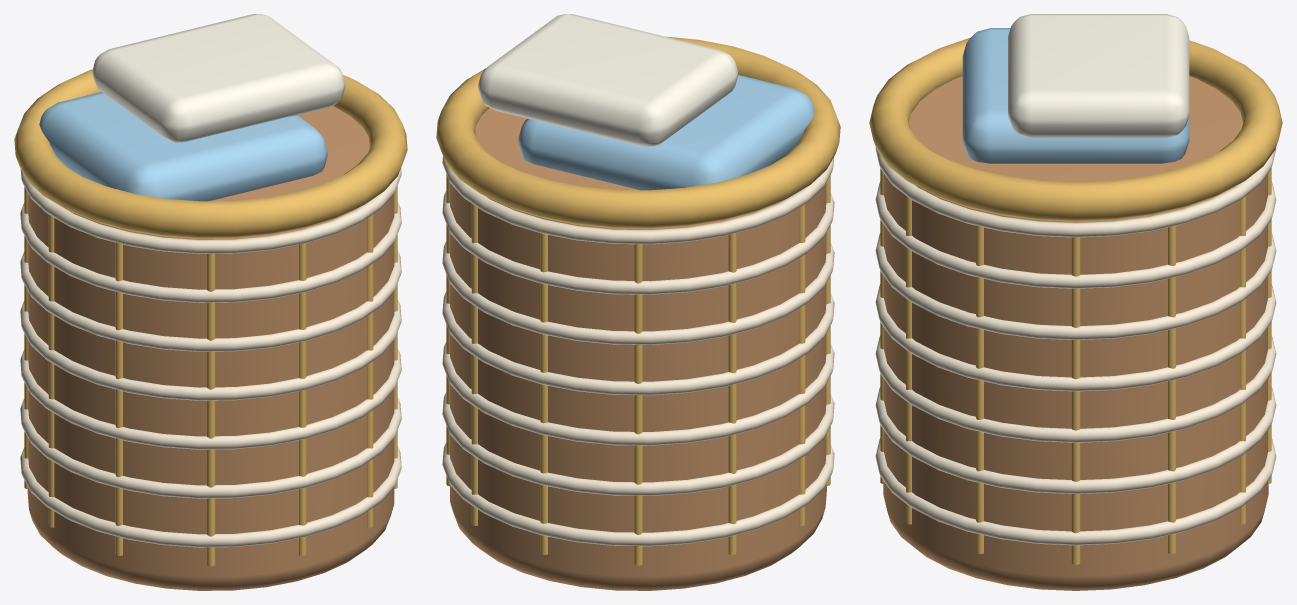
File: bathroomLaundryHamper.glb
3 views of the same model, side by side, from view 1: azimuth 30°, elevation 25°; view 2: azimuth 150°, elevation 25°; view 3: azimuth 270°, elevation 25° (orthographic). The views are drawn at different scales.
Visible parts, largest first — view 1: Woven hamper, Cream folded towel, Basket rim, Blue folded towel, Woven band.002, Woven band.005, Woven band.003, Woven band.004, Woven band.001, Woven band, Woven band.006, Basket rib.008 (+6 smaller); view 2: Woven hamper, Cream folded towel, Basket rim, Blue folded towel, Woven band.002, Woven band.005, Woven band.003, Woven band, Woven band.001, Woven band.004, Woven band.006, Basket rib.004 (+6 smaller); view 3: Woven hamper, Basket rim, Cream folded towel, Blue folded towel, Woven band.005, Woven band.002, Woven band, Woven band.003, Woven band.004, Woven band.001, Woven band.006, Basket rib (+6 smaller).
Part boxes in pixels (left/top/right/bottom): Woven hamper: left=27, top=106, right=394, bottom=590; Cream folded towel: left=92, top=14, right=345, bottom=142; Basket rim: left=14, top=69, right=407, bottom=238; Blue folded towel: left=39, top=92, right=327, bottom=201; Woven band.002: left=20, top=348, right=401, bottom=449; Woven band.005: left=20, top=202, right=401, bottom=302; Woven band.003: left=20, top=300, right=401, bottom=400; Woven band.004: left=20, top=251, right=401, bottom=351; Woven band.001: left=20, top=397, right=401, bottom=498; Woven band: left=20, top=446, right=401, bottom=547; Woven band.006: left=20, top=168, right=401, bottom=253; Basket rib.008: left=207, top=253, right=215, bottom=566; Woven hamper: left=450, top=108, right=826, bottom=590; Cream folded towel: left=478, top=14, right=737, bottom=146; Basket rim: left=436, top=36, right=840, bottom=228; Blue folded towel: left=518, top=75, right=814, bottom=190; Woven band.002: left=442, top=342, right=834, bottom=445; Woven band.005: left=442, top=191, right=834, bottom=294; Woven band.003: left=442, top=292, right=834, bottom=395; Woven band: left=442, top=443, right=834, bottom=546; Woven band.001: left=442, top=392, right=834, bottom=495; Woven band.004: left=442, top=241, right=834, bottom=344; Woven band.006: left=442, top=156, right=834, bottom=244; Basket rib.004: left=634, top=244, right=642, bottom=565; Woven hamper: left=883, top=76, right=1268, bottom=590; Basket rim: left=869, top=38, right=1282, bottom=221; Cream folded towel: left=1008, top=14, right=1189, bottom=138; Blue folded towel: left=962, top=28, right=1189, bottom=163; Woven band.005: left=875, top=181, right=1276, bottom=288; Woven band.002: left=875, top=335, right=1276, bottom=442; Woven band: left=875, top=438, right=1276, bottom=545; Woven band.003: left=875, top=284, right=1276, bottom=391; Woven band.004: left=875, top=233, right=1276, bottom=339; Woven band.001: left=875, top=387, right=1276, bottom=493; Woven band.006: left=875, top=147, right=1276, bottom=237; Basket rib: left=1071, top=237, right=1080, bottom=564.
Size of the model in its own units: 0.73 by 0.925 by 0.73.
